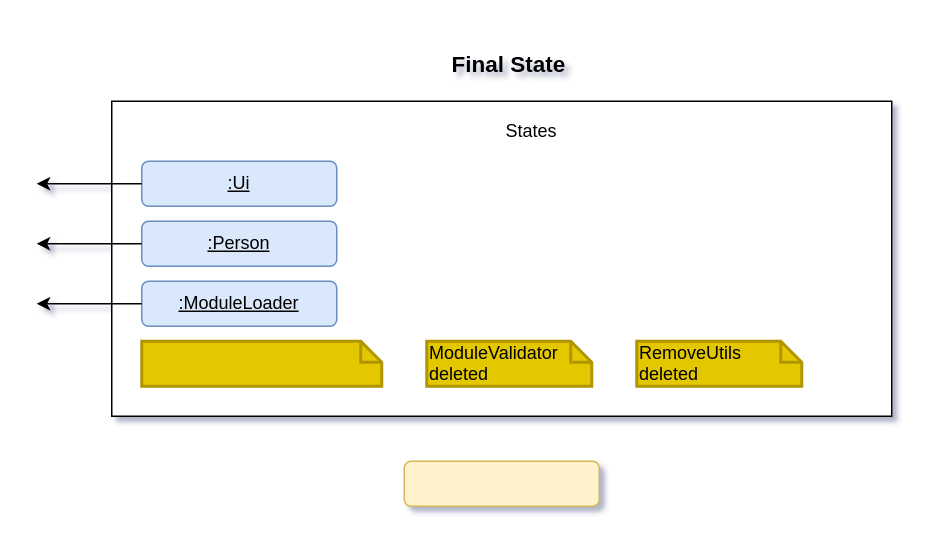
The diagram is 927 pixels wide and 542 high, and some of its shapes have lost their labels. The shapes that lost their labels are listed below. From the top down, each one's centre as x and y in pixels, then its label:
At pixel 261 363: "RemoveModuleCommand deleted".
At pixel 501 483: "Current state".
